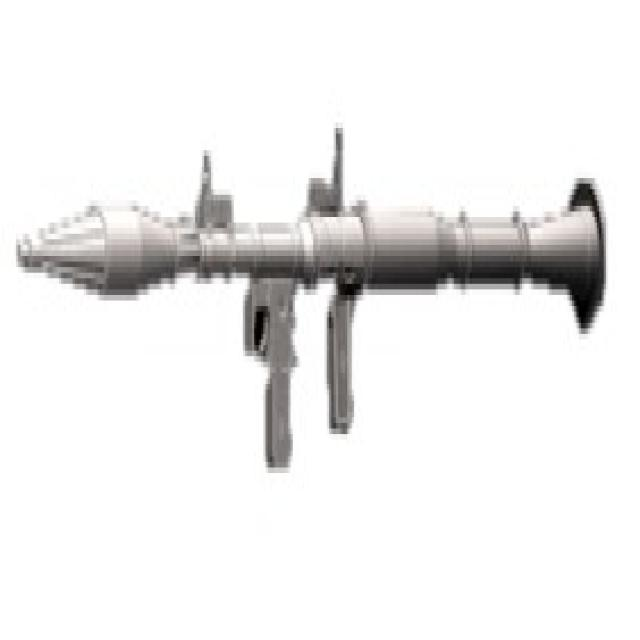bazooka: (14, 106, 610, 493)
